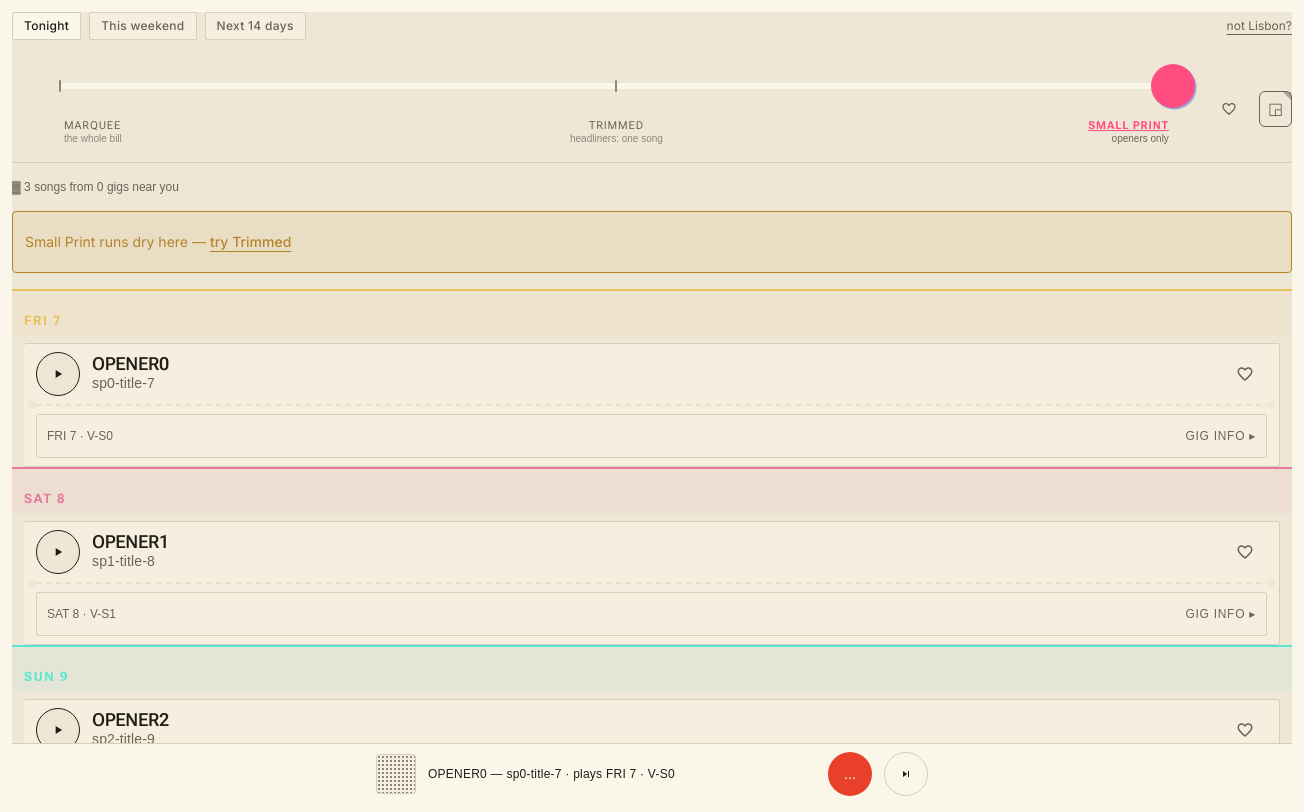
Scenario: PlaylistScreen — Small Print runs dry notice (Task 3.7) › at small-print (dry bundle) the notice renders and its button moves the dial to No Arenas
The width and height of the screenshot is (1304, 812).
Check: the text "Small Print runs dry here —" is shown, box [25,232,206,252]
Click the button "try Trimmed". click: (251, 242)
box: [210,220,291,264]
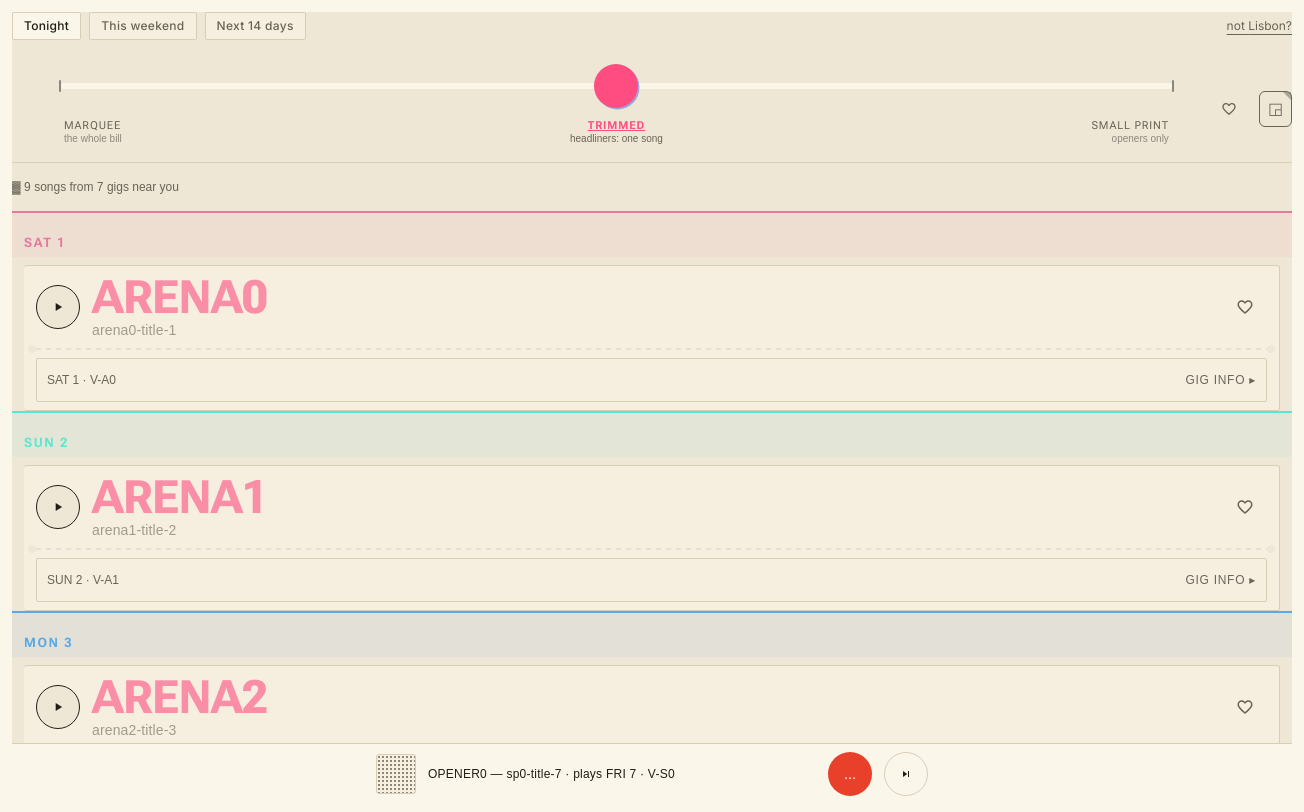
Check: the button named "Play preview of ARENA0" is shown, box [36,284,80,328]
Check: the text "Small Print runs dry here —" is gone
